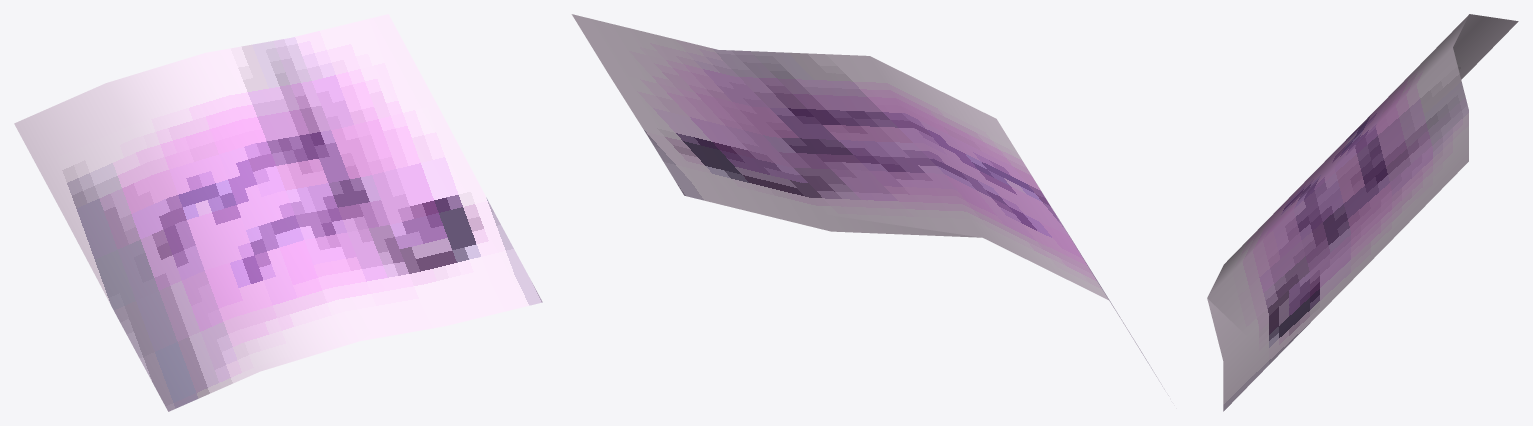
The model's file is fg_omikuji.dae.
3 renders of one model, left to right at view 1: azimuth 30°, elevation 25°; view 2: azimuth 150°, elevation 25°; view 3: azimuth 270°, elevation 25°, orthographic. The views are drawn at different scales.
Visible parts, largest first — view 1: fg_omikuji; view 2: fg_omikuji; view 3: fg_omikuji.
Boxes of the visible parts, bbox=[...] form: fg_omikuji: bbox=[14, 14, 542, 411]; fg_omikuji: bbox=[571, 14, 1168, 395]; fg_omikuji: bbox=[1207, 14, 1518, 411].
Size of the model in its own units: 14.66 by 9.61 by 9.43.
1 material, 1 textured.
